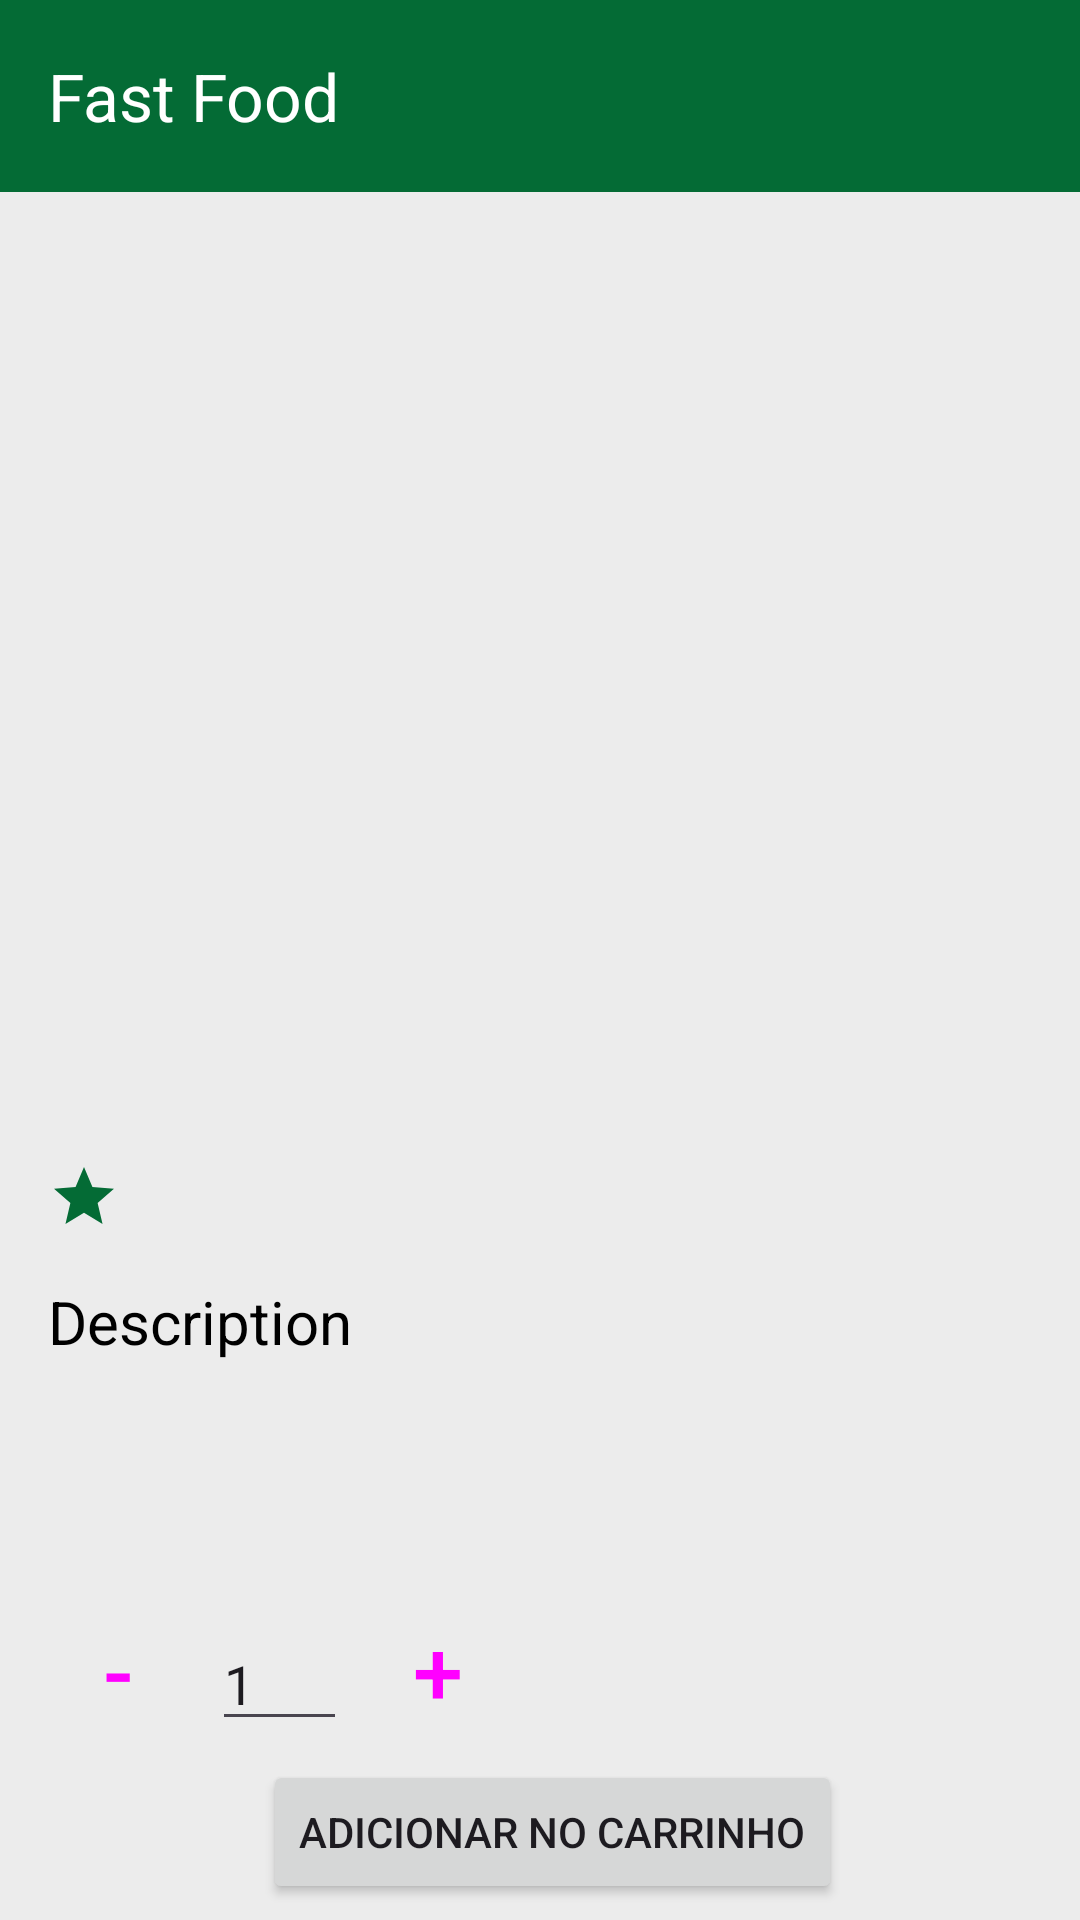

Point at icon controls on the screen. Image size 1080px x 1920px, points as (x=x, y=y).
star: (x=84, y=1195)
